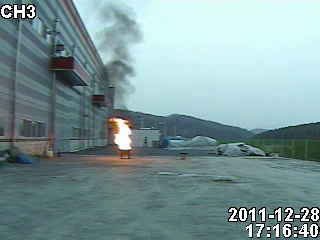fire: (112, 115, 132, 152)
smoke: (95, 2, 144, 117)
